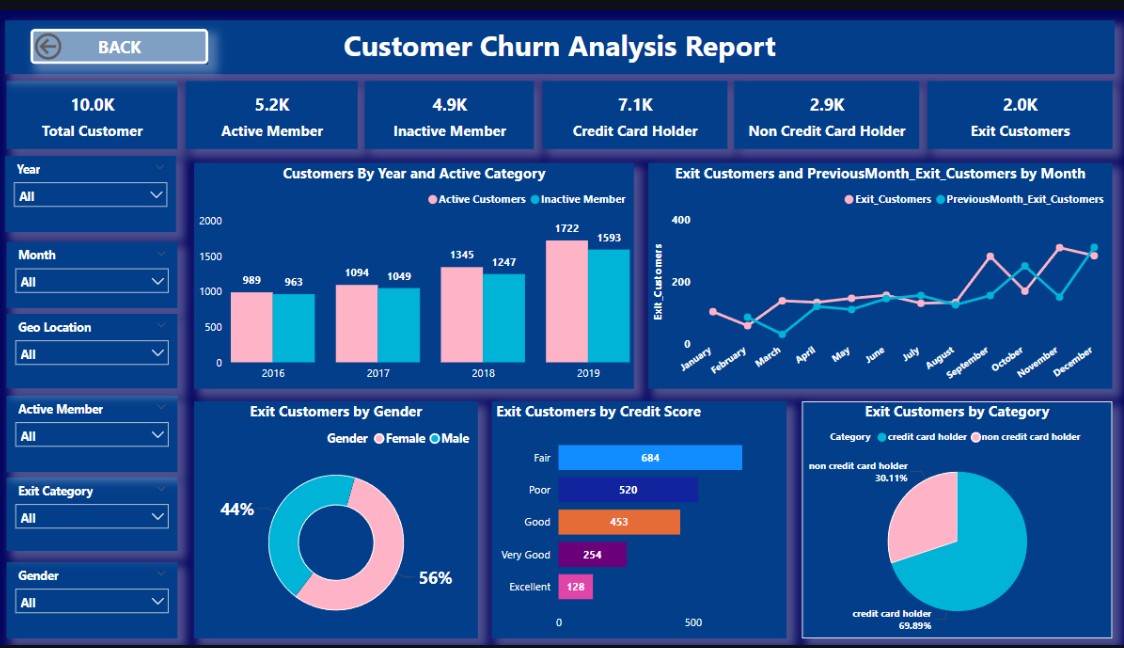

What the dashboard file says about the page in this screenshot:
{"tool":"powerbi","page":{"name":"Summary","canvas":[1280,720],"ordinal":1},"visuals":[{"type":"card","fields":{"Values":["KPI.Total_customers"]},"box":[17.5,81.1,192.5,76.3],"z":0},{"type":"textbox","box":[15.1,13.2,1251,60.5],"z":1000},{"type":"card","fields":{"Values":["KPI.Active Customers"]},"box":[218.9,81.1,194.1,76.3],"z":2000},{"type":"card","fields":{"Values":["KPI.Inactive Member"]},"box":[421.8,81.1,190.9,76.3],"z":3000},{"type":"card","fields":{"Values":["KPI.Card Holder"]},"box":[621.6,81.1,208.4,76.3],"z":4000},{"type":"card","fields":{"Values":["KPI.Have No Card"]},"box":[838.9,81.1,208.4,76.3],"z":5000},{"type":"card","fields":{"Values":["KPI.Exit Customer"]},"box":[1056.2,81.1,208.4,76.3],"z":6000},{"type":"slicer","title":"Year Slicer","fields":{"Values":["dim_date.Year"]},"box":[15.9,165.4,192.5,85.9],"z":7000},{"type":"clusteredColumnChart","title":"Customers By Year and Active Category","fields":{"Category":["date.Year"],"Y":["KPI.Active Customers","KPI.Inactive Member"]},"box":[229,173.4,496.3,254.5],"z":8000},{"type":"lineChart","title":"Exit Customers and PreviousMonth_Exit_Customers by Month","fields":{"Category":["date.Month Name"],"Y":["KPI.Exit_Customers"],"Y2":["KPI.PreviousMonth_Exit_Customers"]},"box":[741.2,173.4,523.3,254.5],"z":9000},{"type":"slicer","title":"Gender Slicer","fields":{"Values":["Gender.GenderCategory"]},"box":[17.5,623.5,192.5,85.9],"z":10000},{"type":"slicer","title":"Exit category Slicer","fields":{"Values":["ExitCustomer.ExitCategory"]},"box":[17.5,528.1,192.5,82.7],"z":11000},{"type":"slicer","title":"Active mamber Slicer","fields":{"Values":["ActiveCustomer.ActiveCategory"]},"box":[17.5,435.8,192.5,85.9],"z":12000},{"type":"slicer","title":"Month Slicer","fields":{"Values":["date.Month Name"]},"box":[17.5,262.5,192.5,74.8],"z":13000},{"type":"slicer","title":"Geo Slicer","fields":{"Values":["Geography.GeographyLocation"]},"box":[17.5,343.6,192.5,84.3],"z":14000},{"type":"pieChart","title":"Exit Customers by Gender","fields":{"Y":["KPI.Exited_Customers"],"Category":["Gender.GenderCategory"]},"box":[229,442.2,319.7,267.2],"z":15000},{"type":"barChart","title":"Exit Customers by Credit Score ","fields":{"Y":["KPI.Exited_Customers"],"Series":["Bank_Churn.Credit Score"],"Category":["Bank_Churn.Credit Score"]},"box":[564.7,442.2,332.4,267.2],"z":16000},{"type":"actionButton","title":"Back","box":[44.5,22.3,200.4,39.8],"z":17000},{"type":"pieChart","title":"Exit Customers by Category","fields":{"Y":["KPI.Exit_Customers"],"Category":["Creditcard.Category"]},"box":[914.6,442.2,349.9,267.2],"z":18000}]}

Visuals, with their boxes in screenshot pixels (x1, y1, x2, y2), scaled from the page's 1280x720 canvas onto the 1124x648 screenshot:
card - KPI.Total_customers: box=[15, 73, 184, 142]
textbox: box=[13, 12, 1112, 66]
card - KPI.Active Customers: box=[192, 73, 363, 142]
card - KPI.Inactive Member: box=[370, 73, 538, 142]
card - KPI.Card Holder: box=[546, 73, 729, 142]
card - KPI.Have No Card: box=[737, 73, 920, 142]
card - KPI.Exit Customer: box=[927, 73, 1110, 142]
"Year Slicer" slicer: box=[14, 149, 183, 226]
"Customers By Year and Active Category" clusteredColumnChart: box=[201, 156, 637, 385]
"Exit Customers and PreviousMonth_Exit_Customers by Month" lineChart: box=[651, 156, 1110, 385]
"Gender Slicer" slicer: box=[15, 561, 184, 638]
"Exit category Slicer" slicer: box=[15, 475, 184, 550]
"Active mamber Slicer" slicer: box=[15, 392, 184, 470]
"Month Slicer" slicer: box=[15, 236, 184, 304]
"Geo Slicer" slicer: box=[15, 309, 184, 385]
"Exit Customers by Gender" pieChart: box=[201, 398, 482, 638]
"Exit Customers by Credit Score " barChart: box=[496, 398, 788, 638]
"Back" actionButton: box=[39, 20, 215, 56]
"Exit Customers by Category" pieChart: box=[803, 398, 1110, 638]
